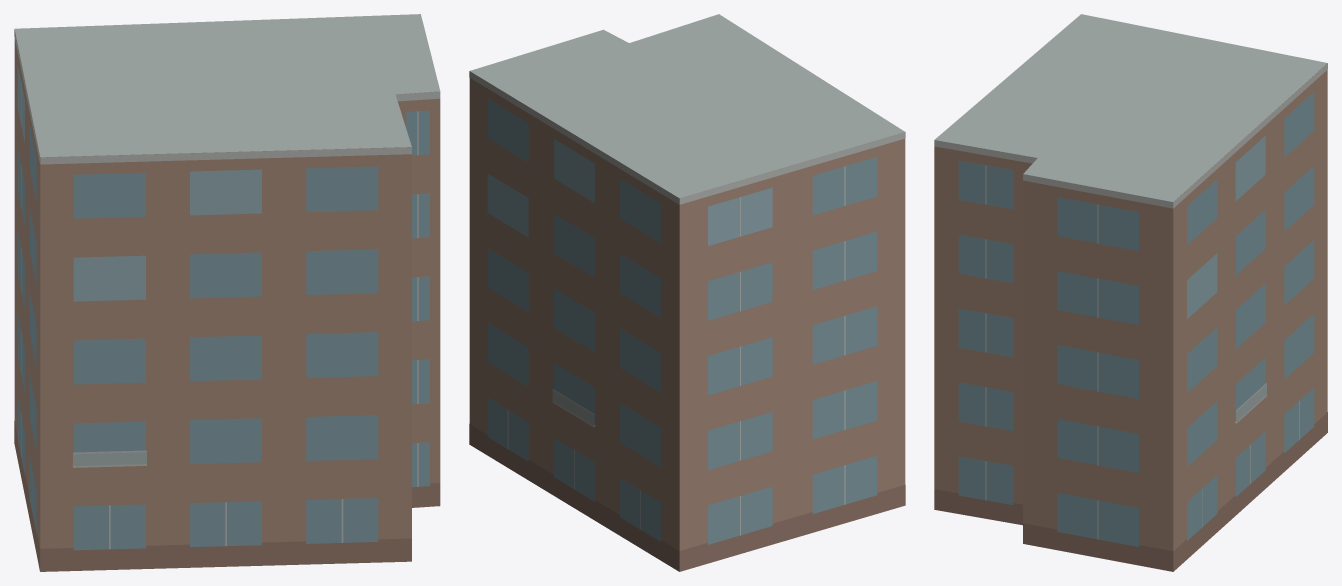
File: survey-upis-32842953.glb
The picture shows the model from 3 angles, left to right: view 1: azimuth 30°, elevation 25°; view 2: azimuth 150°, elevation 25°; view 3: azimuth 270°, elevation 25°; orthographic projection. The views are drawn at different scales.
Parts seen in each view (by area): view 1: survey-upis-32842953.tmp; view 2: survey-upis-32842953.tmp; view 3: survey-upis-32842953.tmp.
Part boxes in pixels (<box>): survey-upis-32842953.tmp: <box>14,14,440,571</box>; survey-upis-32842953.tmp: <box>469,14,905,571</box>; survey-upis-32842953.tmp: <box>934,14,1327,571</box>.
Bounding box in the file's own units: 15.29 × 14 × 13.51.
